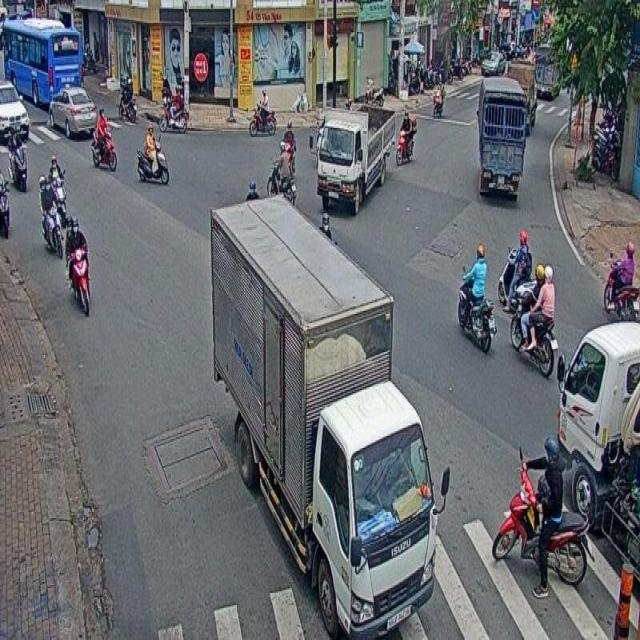motorcycle: (496, 438, 594, 600), (511, 258, 555, 376), (456, 241, 495, 349), (66, 228, 92, 318), (36, 176, 62, 258), (137, 123, 167, 186), (90, 108, 116, 171)
truck: (213, 183, 442, 632), (314, 102, 393, 213), (478, 76, 526, 212)
